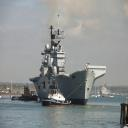Portanaves: (30, 12, 109, 108)
